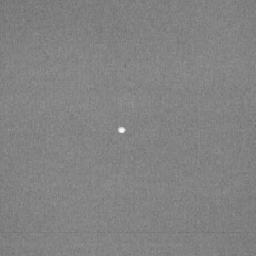Target: (116, 126, 127, 135)
